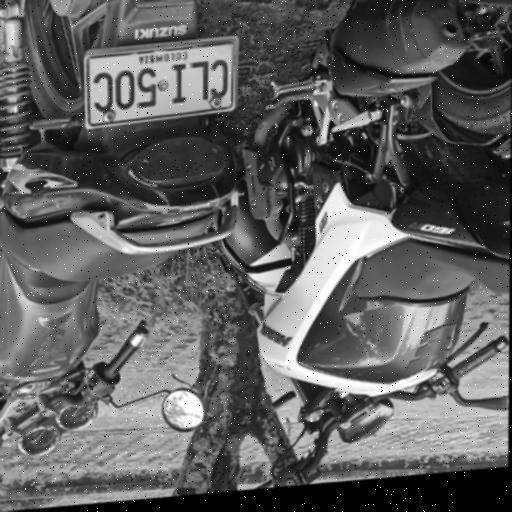placa: (85, 42, 236, 130)
